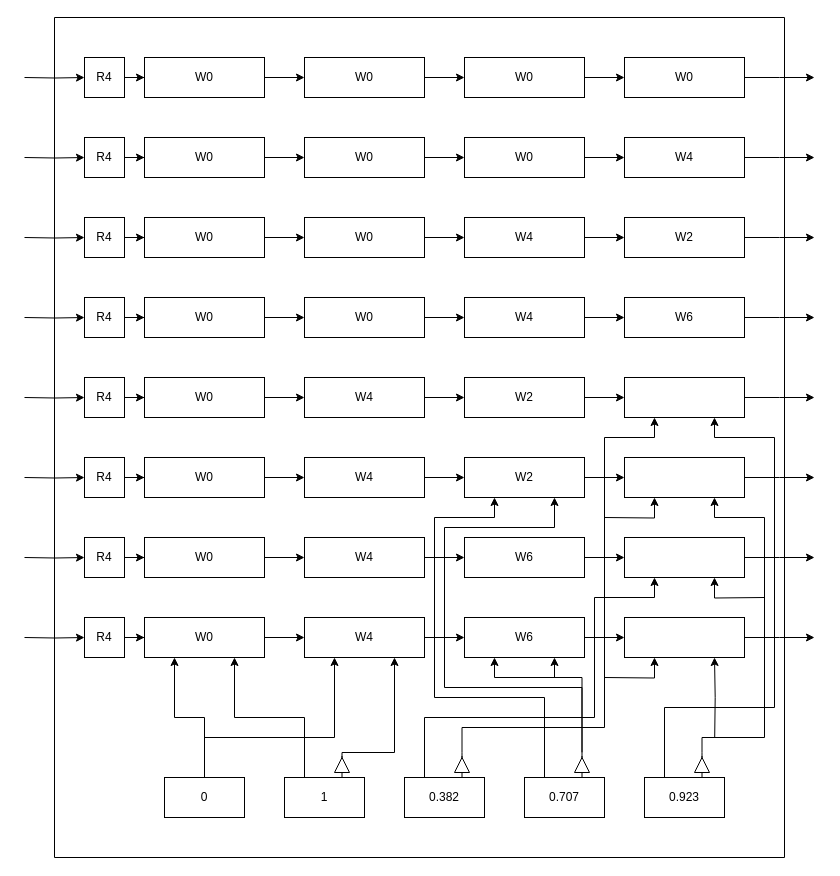
Some shapes in this 840 by 876 pixel diagram are drawn without their labels. Each missing label, with the centre of its shape:
W1: the point at 684,397
W3: the point at 684,557
W5: the point at 684,477
W7: the point at 684,637
